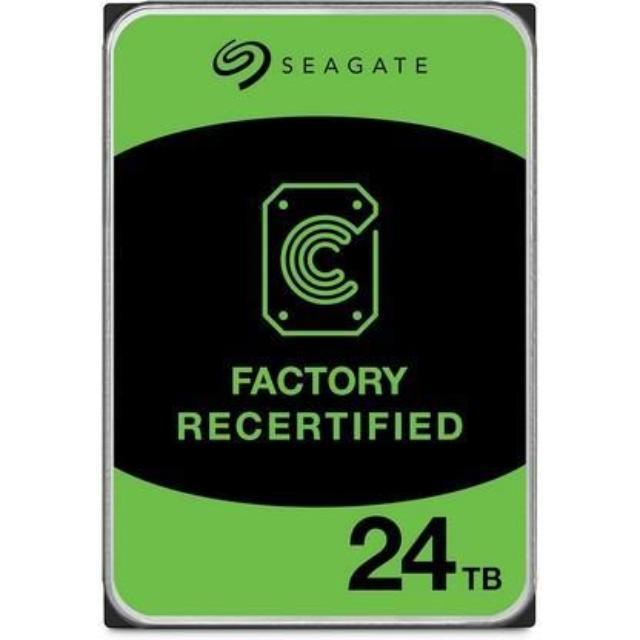DISK: (101, 0, 534, 629)
